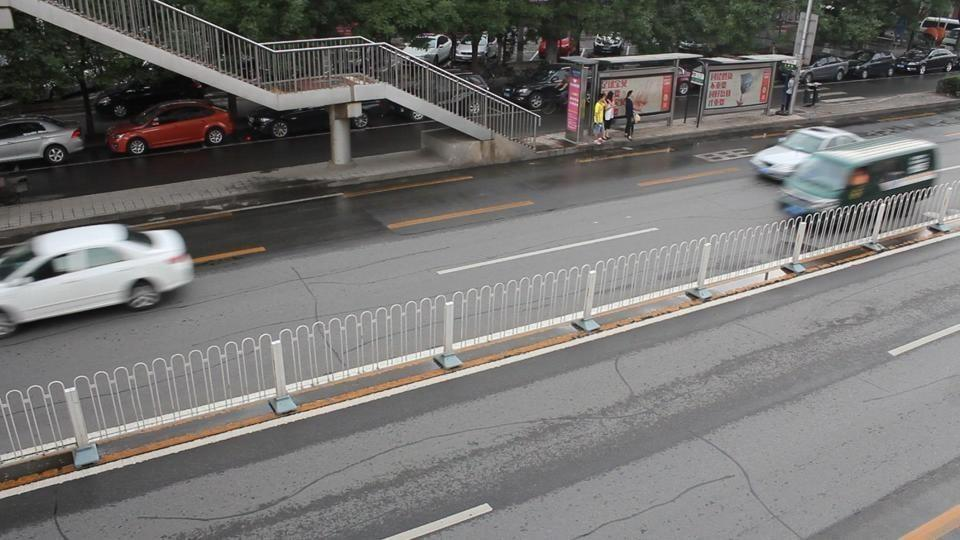car: (1, 222, 194, 337), (776, 135, 940, 221), (105, 99, 238, 157), (750, 125, 868, 182), (1, 115, 85, 167), (500, 67, 574, 114), (95, 79, 180, 119), (403, 33, 453, 66), (843, 51, 896, 80), (802, 56, 849, 82), (916, 48, 960, 75), (0, 172, 29, 205), (893, 53, 928, 75), (593, 34, 626, 55)
